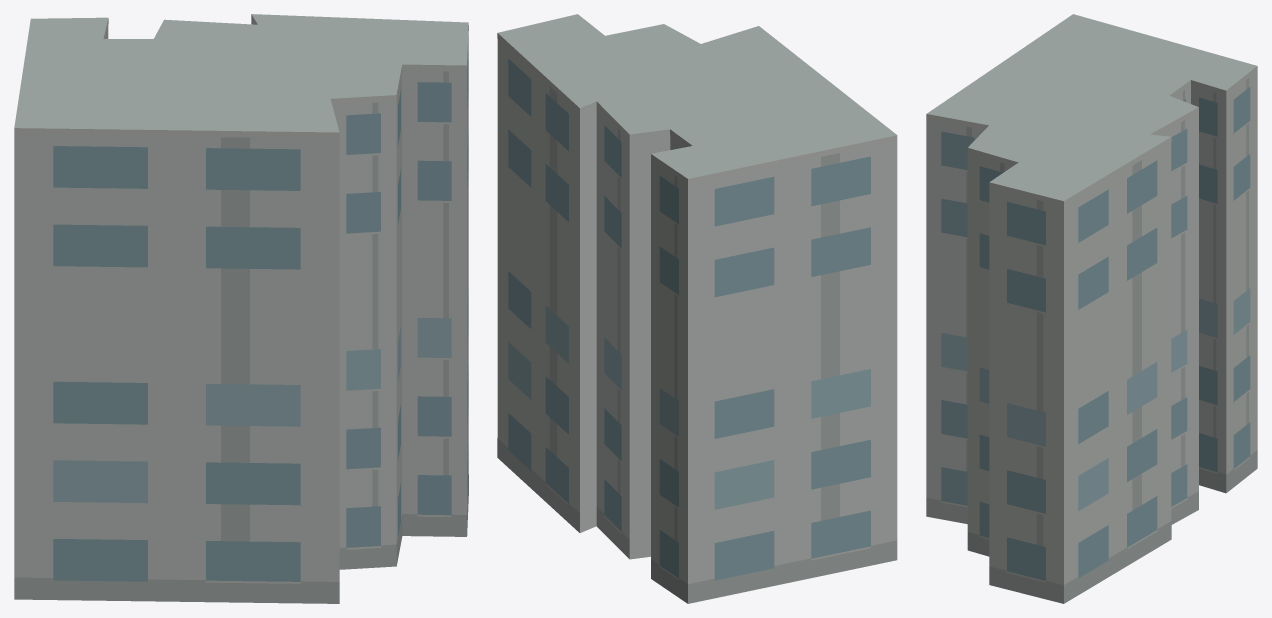
File: survey-upis-32775591.glb
The picture shows the model from 3 angles, left to right: view 1: azimuth 30°, elevation 25°; view 2: azimuth 150°, elevation 25°; view 3: azimuth 270°, elevation 25°; orthographic projection. The views are drawn at different scales.
Visible parts, largest first — view 1: survey-upis-32775591.tmp; view 2: survey-upis-32775591.tmp; view 3: survey-upis-32775591.tmp.
Part boxes in pixels (x1=…): survey-upis-32775591.tmp: x1=14, y1=14, x2=468, y2=603; survey-upis-32775591.tmp: x1=497, y1=14, x2=897, y2=603; survey-upis-32775591.tmp: x1=926, y1=14, x2=1257, y2=603.
Size of the model in its own units: 18.15 by 18.2 by 13.57.
